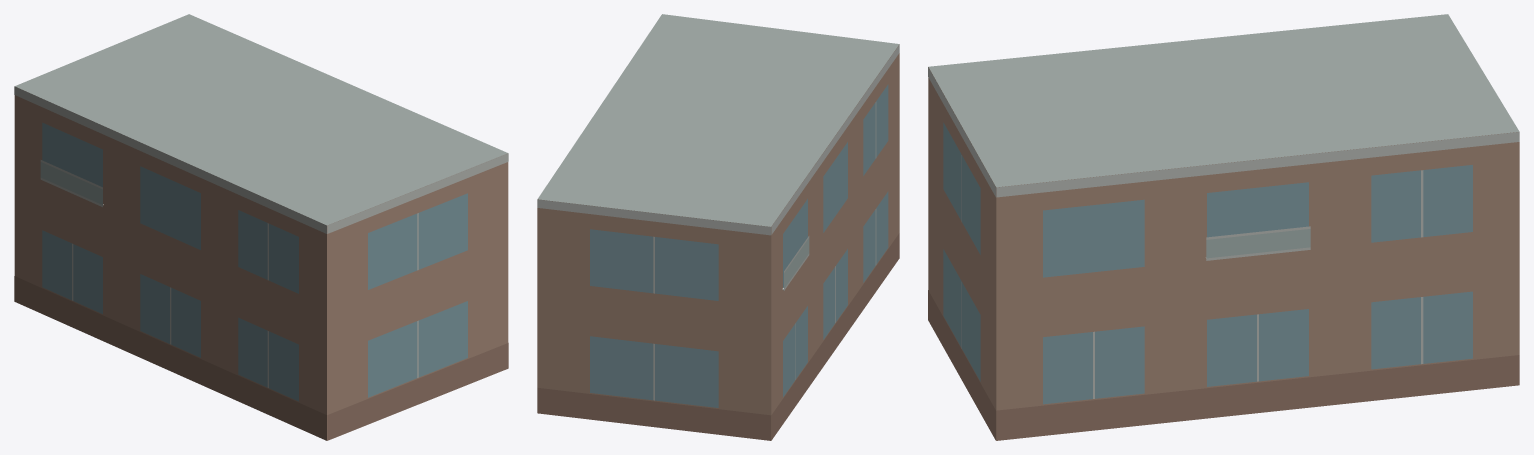
File: survey-upis-32575109.glb
The picture shows the model from 3 angles, left to right: view 1: azimuth 30°, elevation 25°; view 2: azimuth 150°, elevation 25°; view 3: azimuth 270°, elevation 25°; orthographic projection. The views are drawn at different scales.
Visible parts, largest first — view 1: survey-upis-32575109.tmp; view 2: survey-upis-32575109.tmp; view 3: survey-upis-32575109.tmp.
Boxes of the visible parts, x1,y1,x2,y2 form: survey-upis-32575109.tmp: [14, 14, 508, 440]; survey-upis-32575109.tmp: [537, 14, 899, 440]; survey-upis-32575109.tmp: [928, 14, 1519, 440].
Bounding box in the file's own units: 8.96 × 6.1 × 12.91.
